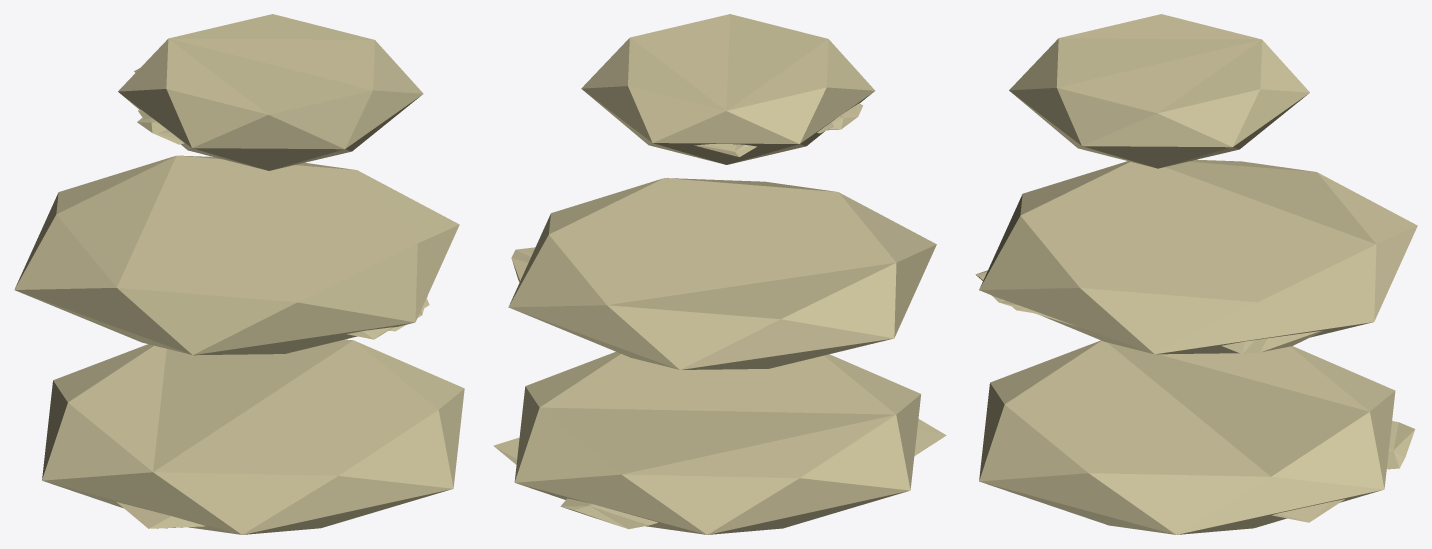
The model's file is Leaves_A.glb.
3 renders of one model, left to right at view 1: azimuth 30°, elevation 25°; view 2: azimuth 150°, elevation 25°; view 3: azimuth 270°, elevation 25°, orthographic. The views are drawn at different scales.
Visible parts, largest first — view 1: Leaves; view 2: Leaves; view 3: Leaves.
Boxes of the visible parts, <box> form: Leaves: <box>14,14,464,534</box>; Leaves: <box>493,14,946,534</box>; Leaves: <box>975,14,1417,534</box>.
Bounding box in the file's own units: 17.87 × 17.12 × 16.68.
